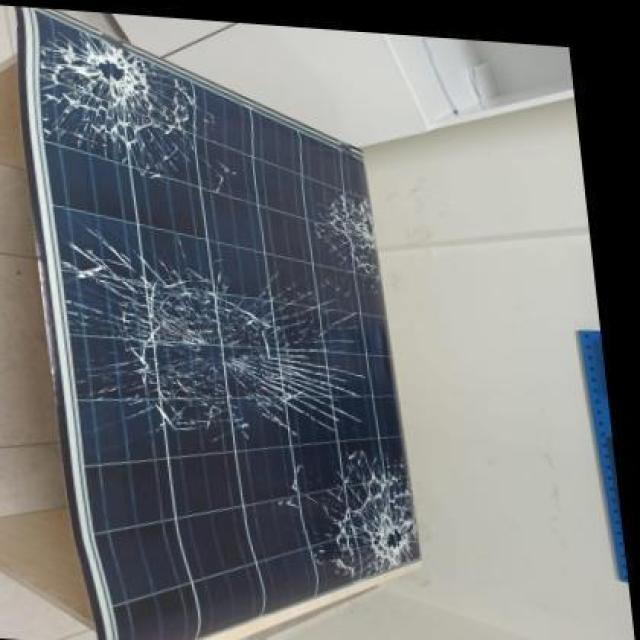cracked: (48, 46, 414, 637)
